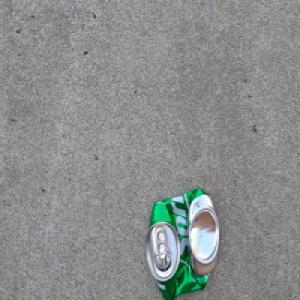SodaCan: (144, 186, 220, 300)
